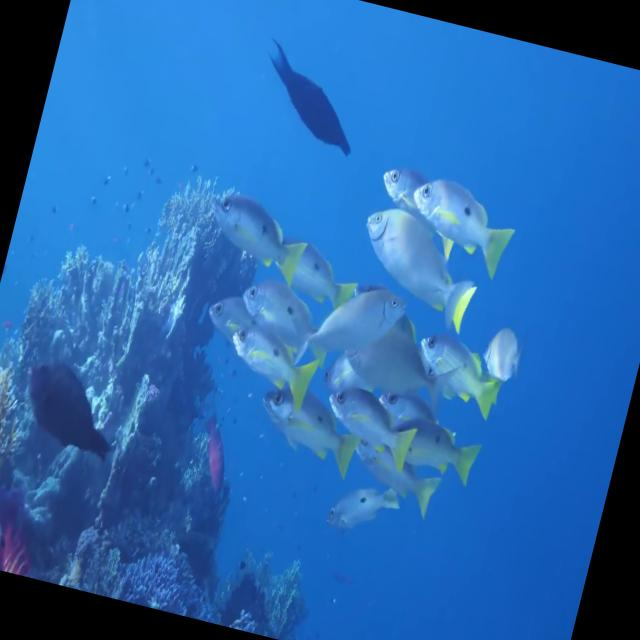fish: (346, 198, 493, 332), (244, 34, 386, 161), (394, 165, 531, 288), (193, 182, 319, 294), (12, 356, 129, 461), (220, 308, 332, 416), (254, 384, 372, 469), (414, 324, 518, 420), (380, 400, 490, 490), (322, 377, 424, 467), (315, 456, 403, 552), (236, 264, 331, 344), (270, 230, 362, 306), (0, 474, 50, 577), (474, 307, 540, 383), (370, 143, 430, 210), (199, 272, 259, 336)
